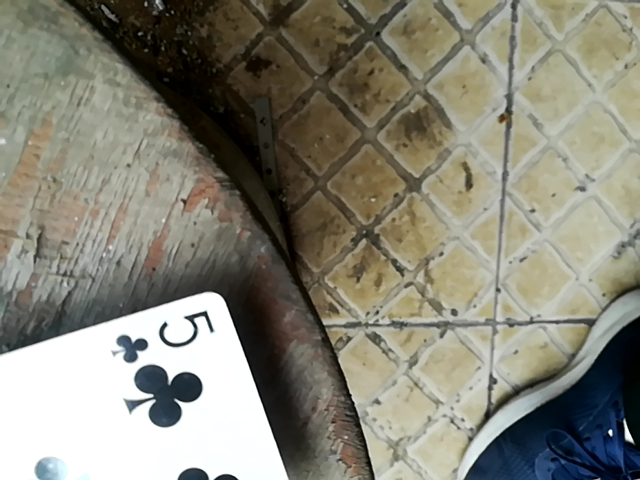mh 5: (0, 300, 324, 480)
